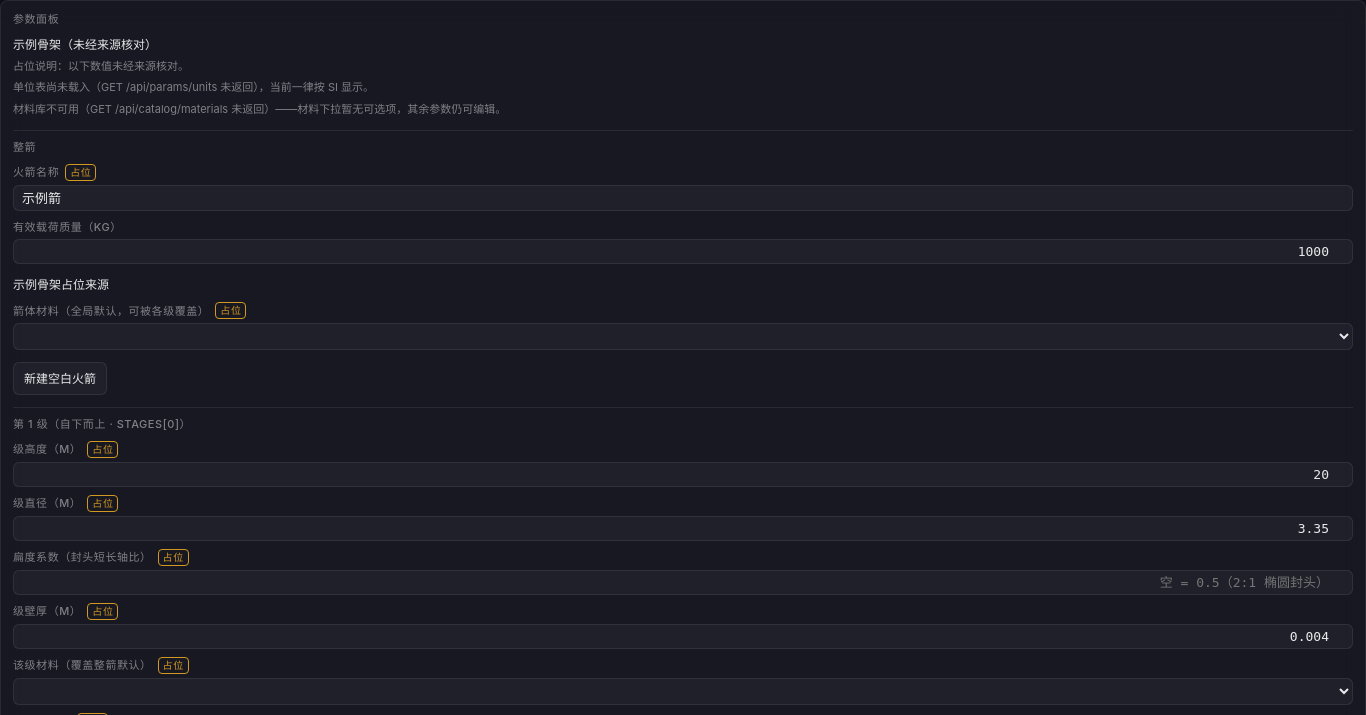
Test: OI-34 名称匹配提示条（§11.5 ⑤ 规则 5） › 别名命中：300ms 防抖后出提示条，逐字符输入只发一次请求且 query 已编码
The image size is (1366, 715).
Replace the text in the field labelled "火箭名称 占位" with "CZ-3B" at point(683, 198), box [13,185,1353,211]
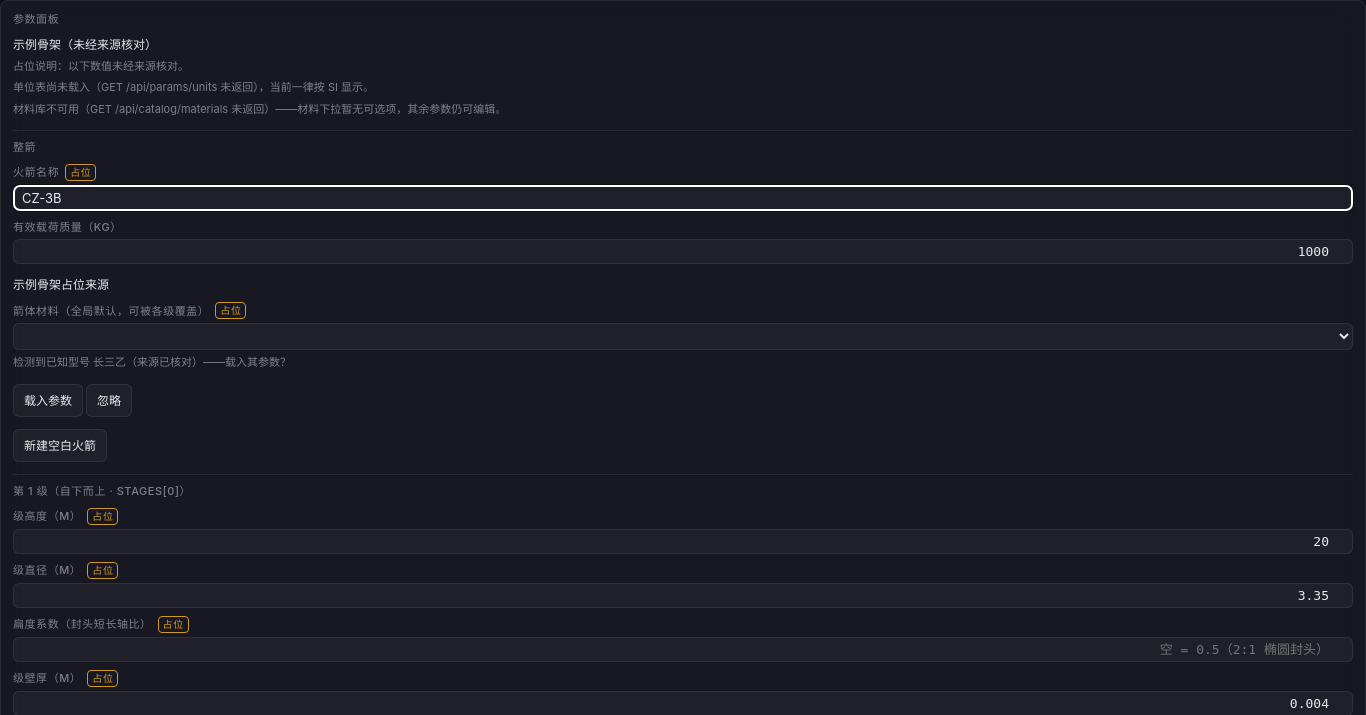
Check: the text "检测到已知型号 长三乙（来源已核对）——载入其参数？" is shown, box [13,355,291,369]
Check: the button "载入参数" is shown, box [13,384,83,417]
Check: the button "忽略" is shown, box [86,384,132,417]
